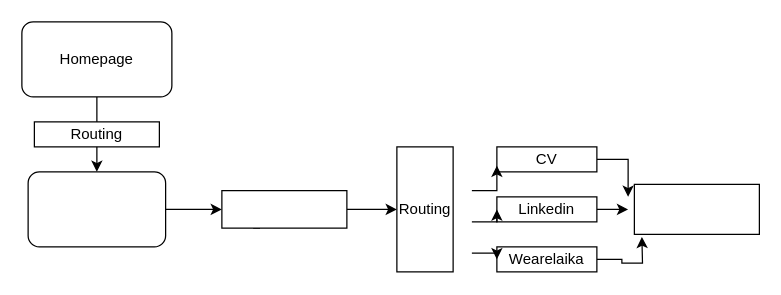
The diagram is 781 pixels wide and 295 high, and some of its shapes have lost their labels. The centre of each missing label's shape, as x and y in pixels:
CategoryPage: point (96, 209)
FinishedPage: point (696, 208)
Resumes: point (284, 208)
